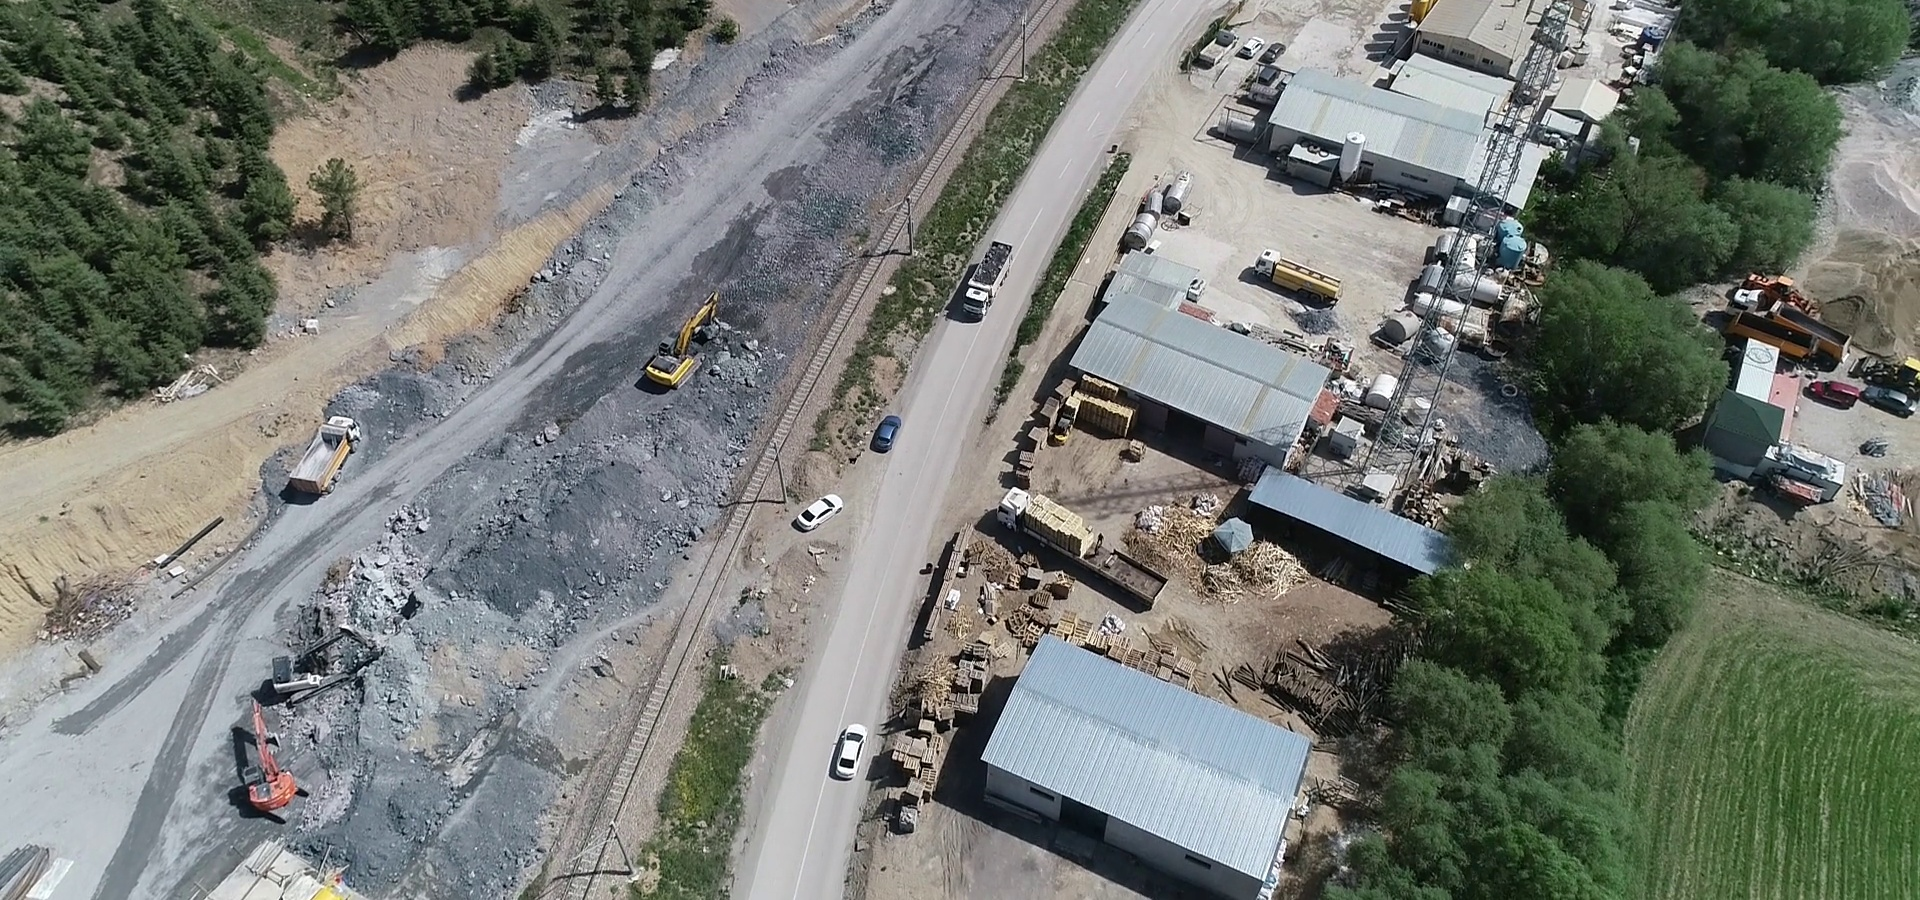araba: (786, 489, 841, 542), (829, 718, 864, 780), (1809, 372, 1861, 413), (872, 408, 906, 457), (1239, 32, 1260, 60), (1266, 40, 1294, 60)
ismakinasi: (267, 615, 391, 696), (647, 287, 736, 394), (236, 694, 305, 819)
kamyon: (996, 491, 1171, 606), (284, 407, 358, 507), (1247, 249, 1344, 309), (954, 238, 1011, 323)
traktor: (1858, 349, 1920, 396)
